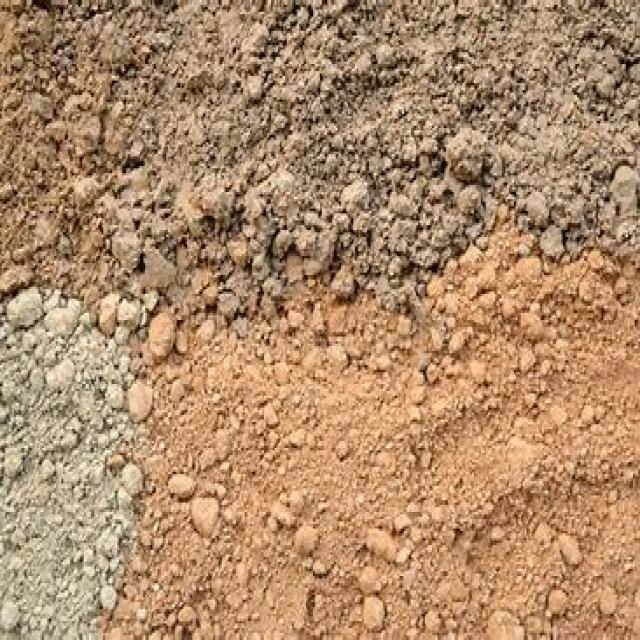Alluvial Soil: (197, 9, 626, 213)
Red Soil: (190, 330, 616, 620)
